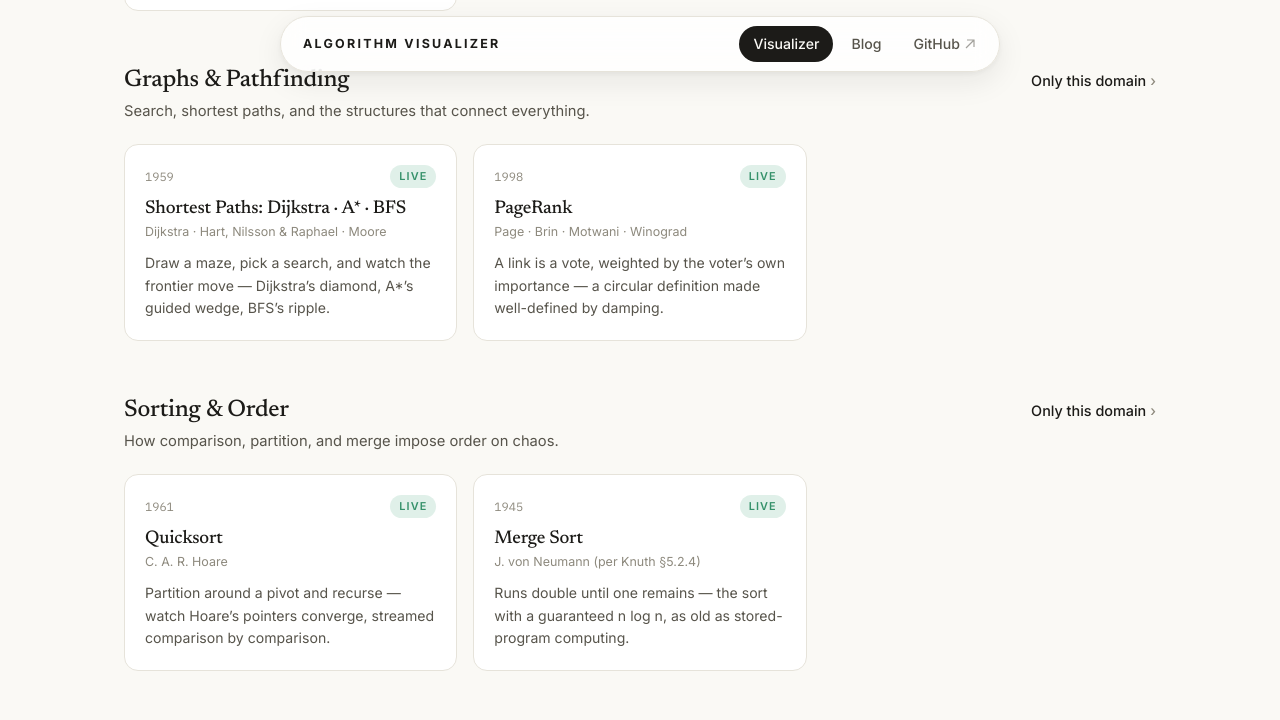
Scenario: catalog by domain › links each catalog heading to its own domain
The image size is (1280, 720).
(page scrolled)
Click the link "Sorting & Order": [206, 410] box [124,398,289,423]
(page scrolled)
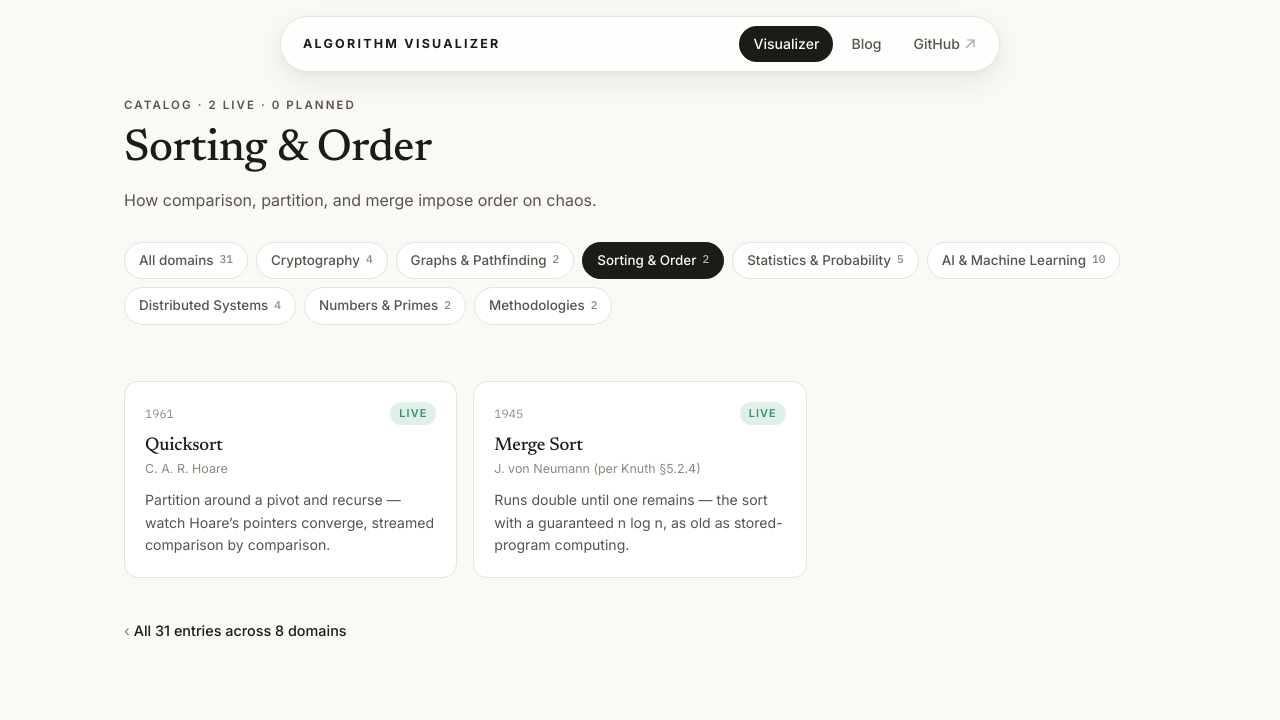
Expected: the heading "Quicksort" is shown, [145,436,223,455]
Expected: the heading "Sorting & Order" is shown, [124,127,432,172]
